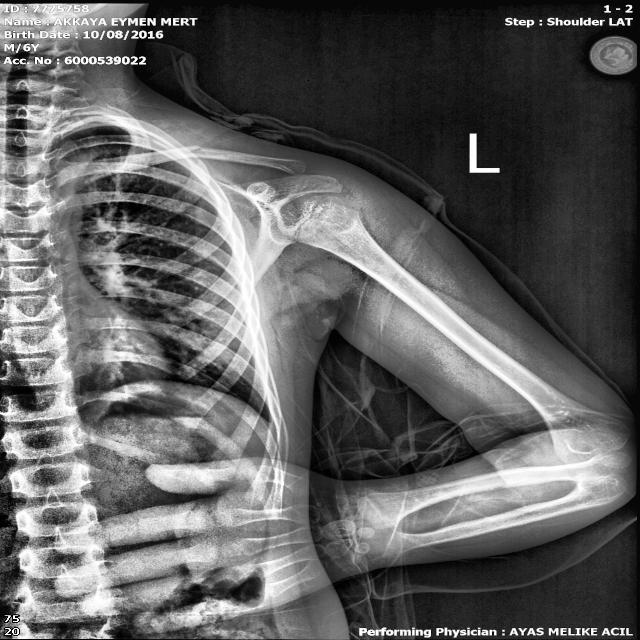Fracture: (178, 137, 216, 167)
